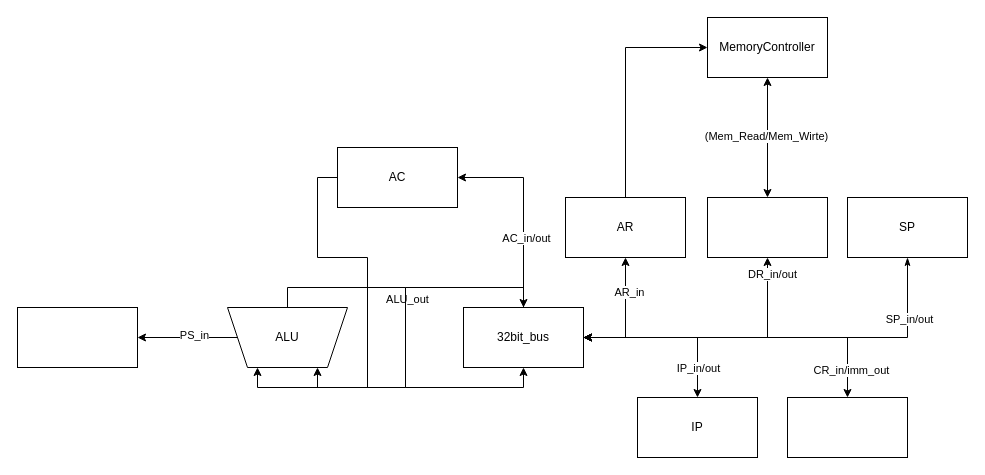
This 985x475 diagram has some shape labels left out. The shapes that lost their labels are listed below. From the top down, each one's centre as x and y in pixels, then its label:
At (767,227): "DR".
At (77,337): "PS".
At (847,427): "CR".
